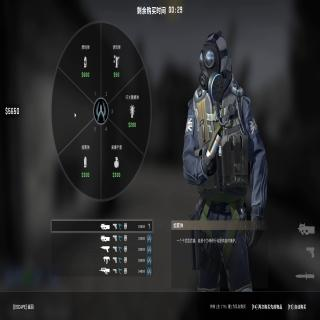CT-Head: (197, 33, 229, 89)
